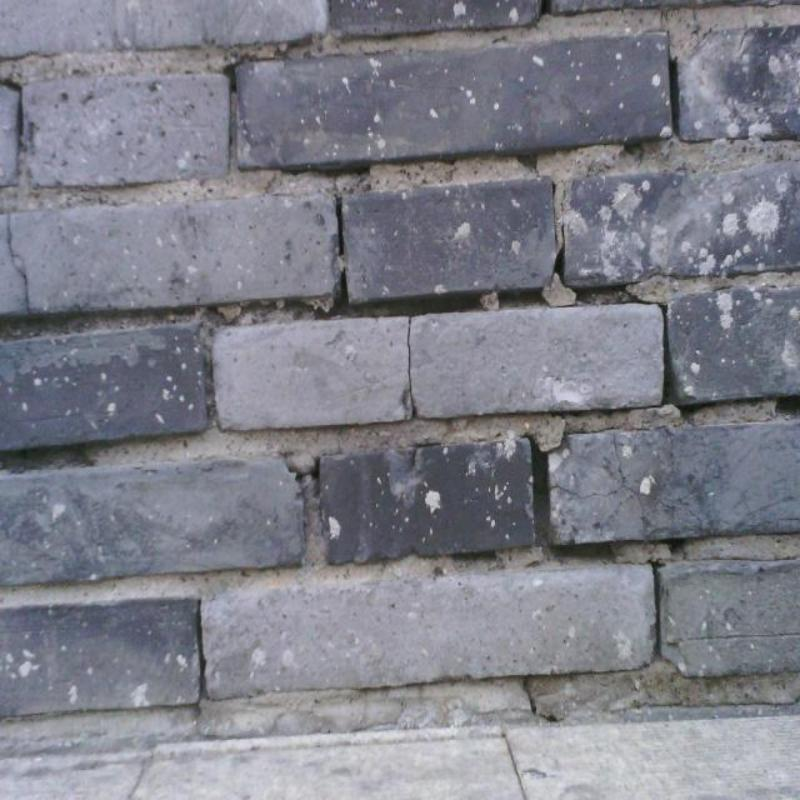pothole: (548, 434, 702, 530), (328, 269, 484, 319), (678, 395, 799, 419), (194, 704, 270, 740), (7, 214, 33, 313), (529, 435, 550, 544), (666, 631, 799, 648), (542, 426, 619, 455), (658, 302, 679, 405), (522, 676, 564, 722), (400, 317, 419, 417), (225, 54, 276, 91), (0, 79, 26, 151), (571, 284, 656, 306), (636, 698, 799, 708), (195, 598, 209, 702), (650, 560, 664, 659), (550, 542, 614, 561), (499, 288, 549, 308), (669, 59, 681, 136), (334, 194, 346, 258), (288, 458, 320, 481), (411, 442, 442, 465), (282, 168, 370, 176), (551, 181, 559, 256), (555, 246, 568, 285), (453, 550, 495, 559), (666, 540, 689, 554), (518, 154, 536, 169), (539, 0, 551, 15), (561, 224, 566, 248), (626, 144, 638, 154)
